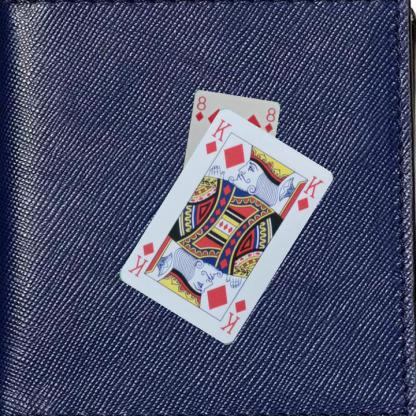8d: (192, 94, 207, 122)
Kd: (203, 116, 234, 156), (217, 297, 248, 336)
